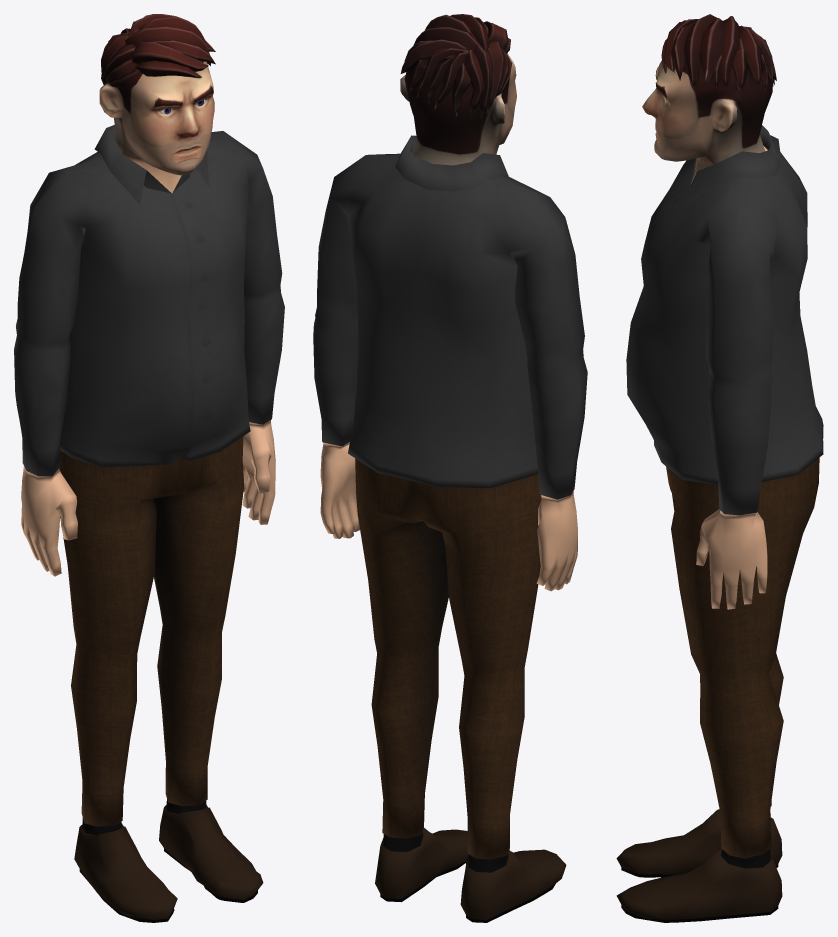
The model's file is NPC4.glb.
3 renders of one model, left to right at view 1: azimuth 30°, elevation 25°; view 2: azimuth 150°, elevation 25°; view 3: azimuth 270°, elevation 25°, orthographic.
Parts seen in each view (by area): view 1: M_lBody_BaseMesh.003; view 2: M_lBody_BaseMesh.003; view 3: M_lBody_BaseMesh.003.
Part boxes in pixels (x1=…): M_lBody_BaseMesh.003: x1=14, y1=14, x2=284, y2=922; M_lBody_BaseMesh.003: x1=313, y1=14, x2=587, y2=922; M_lBody_BaseMesh.003: x1=616, y1=14, x2=823, y2=922.
Size of what is drawn, in the model's own units: 0.5499 by 1.73 by 0.372.
2 materials, 2 textured.
